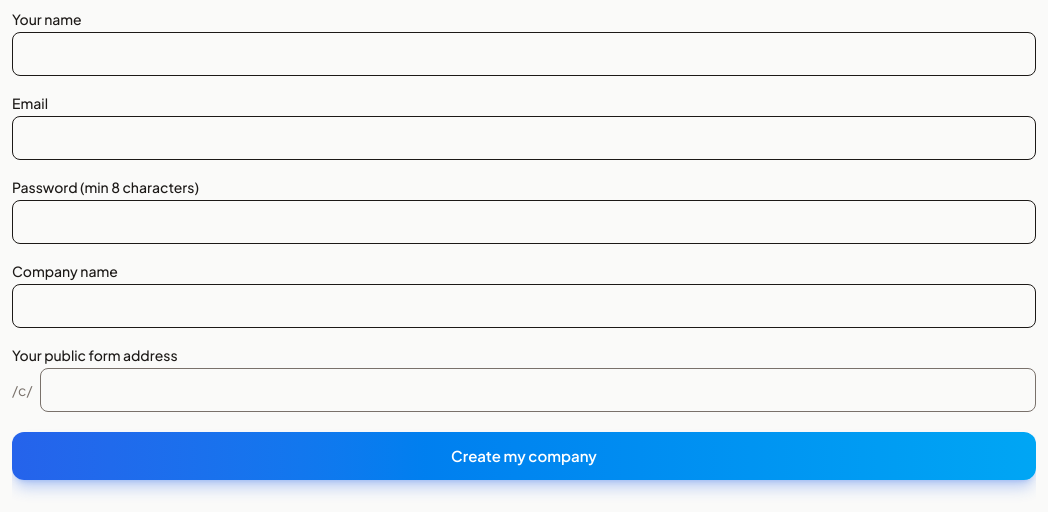
Test: SignupForm › derives the slug from the company name
The image size is (1048, 512).
Type "TM Construction Co." into the field labelled "Company name" at point(524, 306), box [12, 284, 1036, 328]
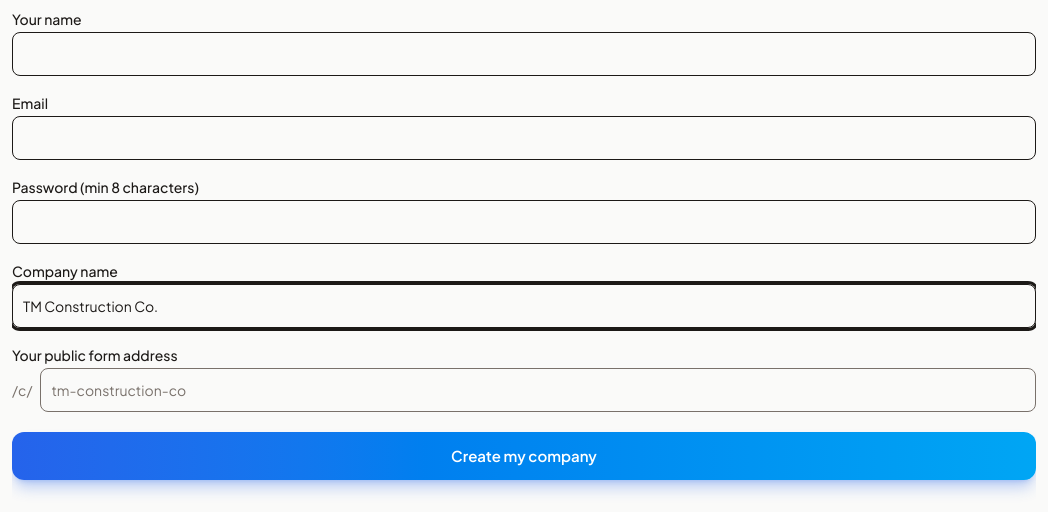
Now the field labelled "Your public form address" holds "tm-construction-co", box [40, 368, 1036, 412]
